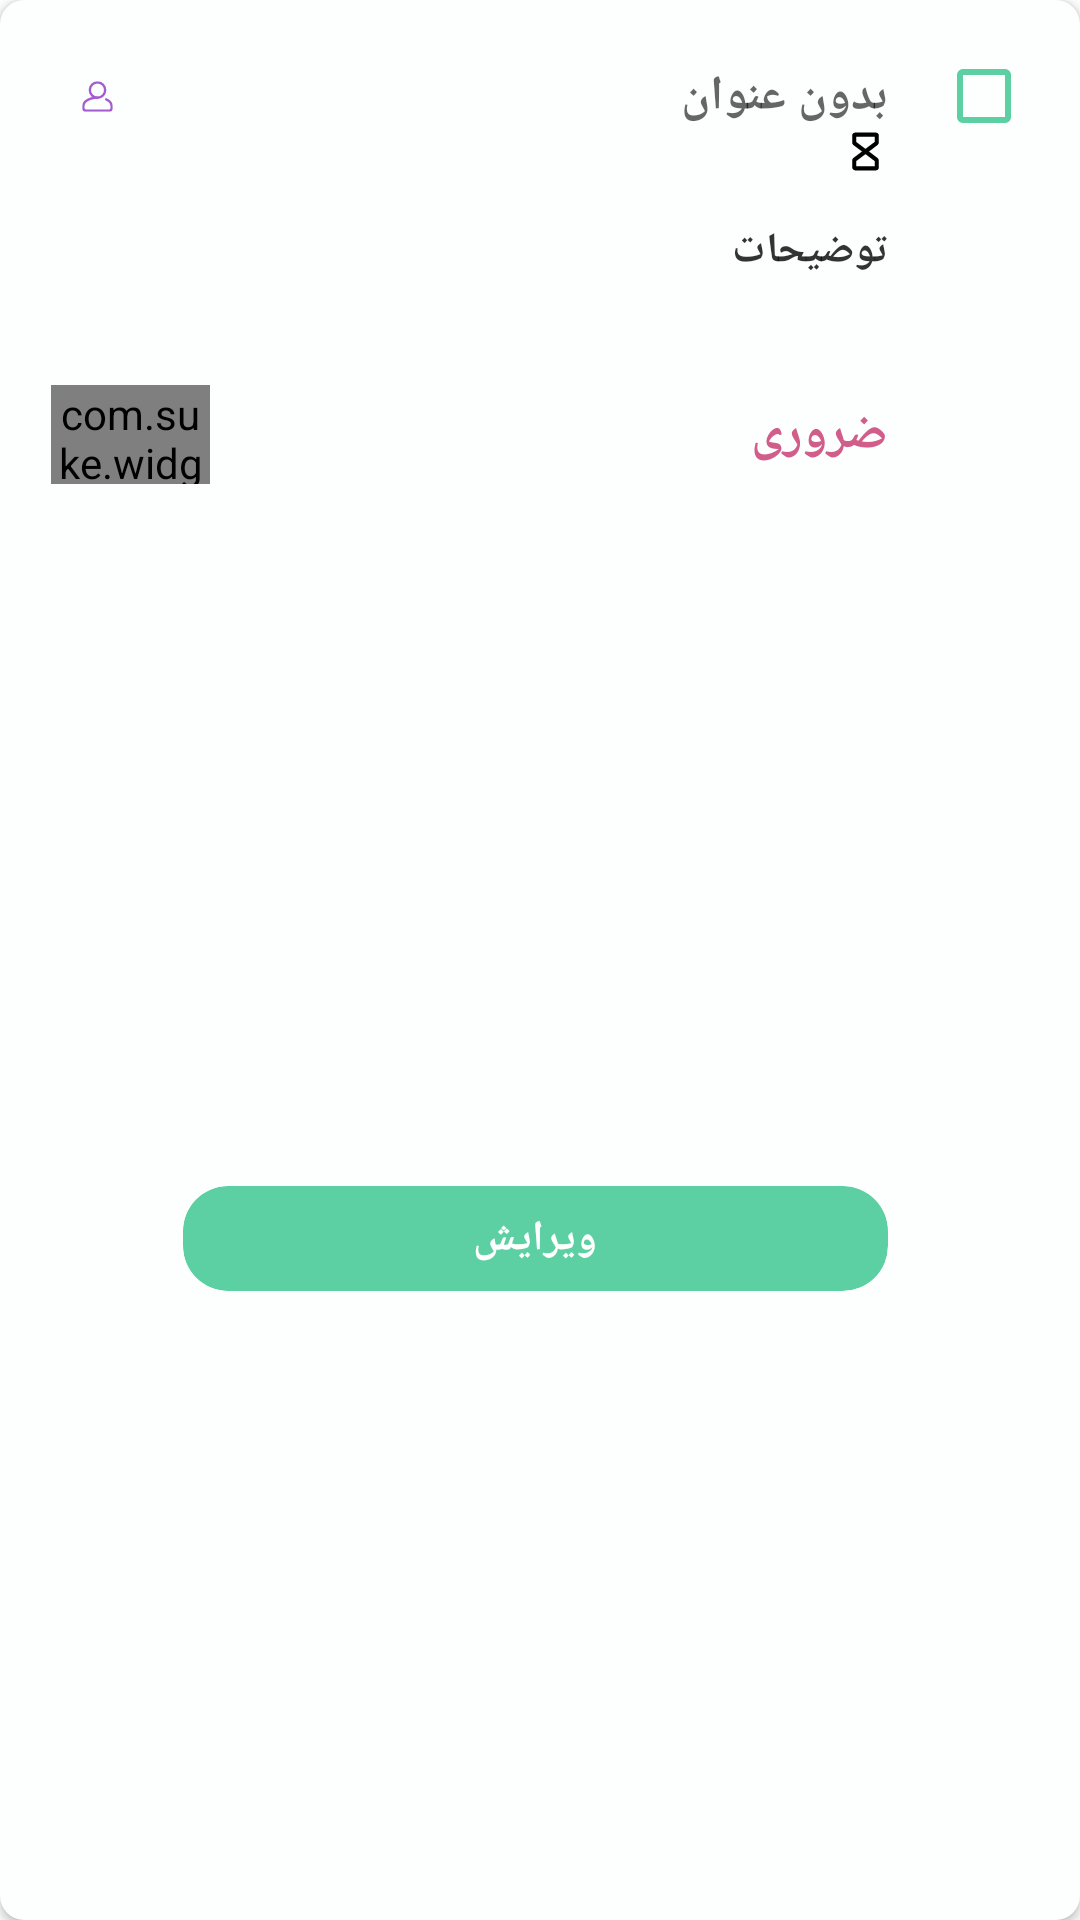

Icons on this 1080px x 1920px Android screen, each with its box as (x1, y1, x2, y2):
hourglass: (852, 132, 879, 171)
person: (82, 81, 113, 112)
